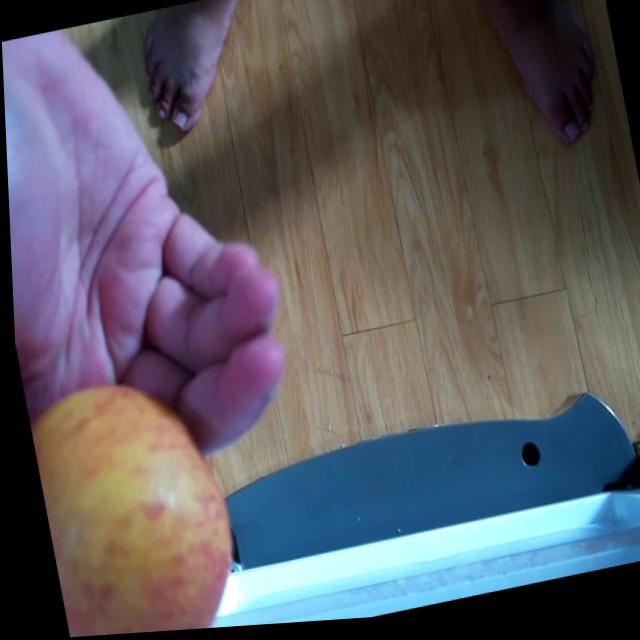apple: (21, 366, 242, 640)
